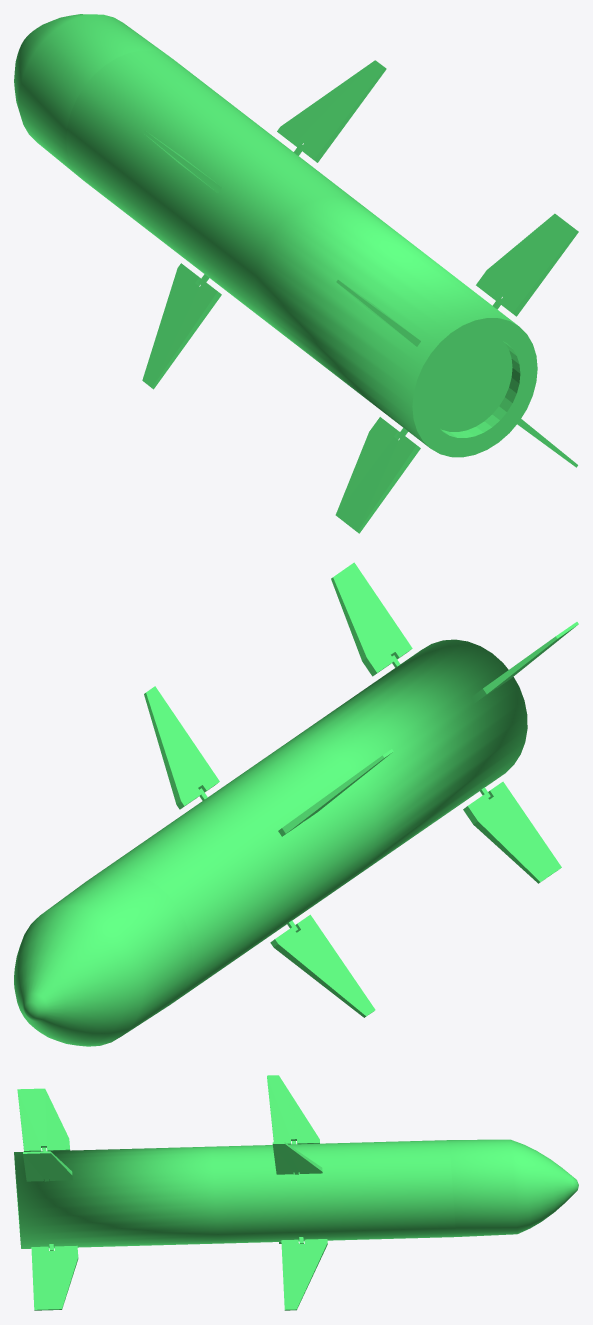
The model's file is enemyBullet.glb.
The picture shows the model from 3 angles, top to bottom: view 1: azimuth 30°, elevation 25°; view 2: azimuth 150°, elevation 25°; view 3: azimuth 270°, elevation 25°; orthographic projection. The views are drawn at different scales.
Parts seen in each view (by area): view 1: Cylinder.003_Cylinder.005; view 2: Cylinder.003_Cylinder.005; view 3: Cylinder.003_Cylinder.005.
Part boxes in pixels (x1,y1,x2,y2): Cylinder.003_Cylinder.005: [14, 14, 578, 533]; Cylinder.003_Cylinder.005: [14, 562, 578, 1046]; Cylinder.003_Cylinder.005: [14, 1075, 578, 1310].
Size of the model in its own units: 3.9 by 4.11 by 12.14.
